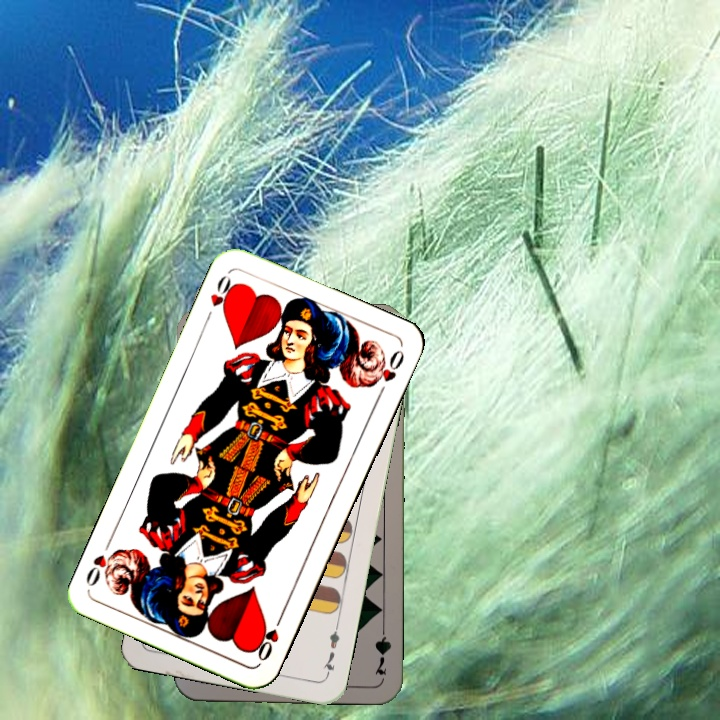E7: (318, 621, 342, 679)
G7: (370, 619, 394, 677)
HO: (251, 610, 286, 664), (206, 271, 240, 316)
